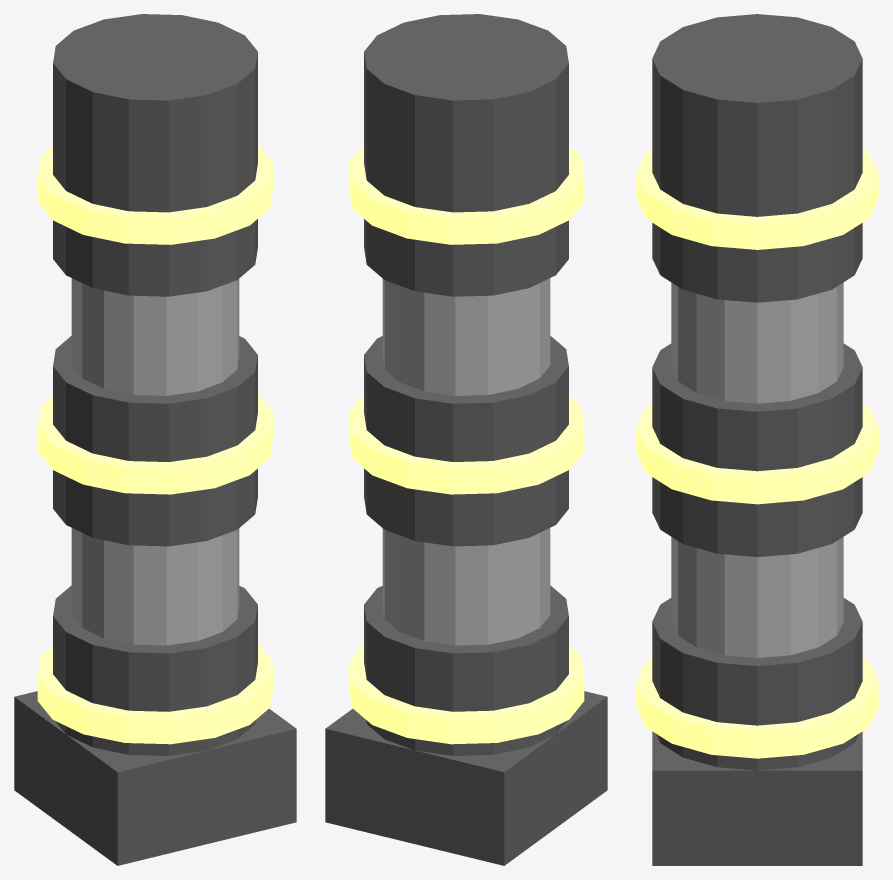
Rendered from pillara2.fbx.
3 renders of one model, left to right at view 1: azimuth 30°, elevation 25°; view 2: azimuth 150°, elevation 25°; view 3: azimuth 270°, elevation 25°, orthographic.
Parts seen in each view (by area): view 1: Cube.009; view 2: Cube.009; view 3: Cube.009.
Boxes of the visible parts, x1,y1,x2,y2 form: Cube.009: (14,14,296,865); Cube.009: (325,14,607,865); Cube.009: (636,14,878,865).
Size of the model in its own units: 0.575 by 2 by 0.575.
